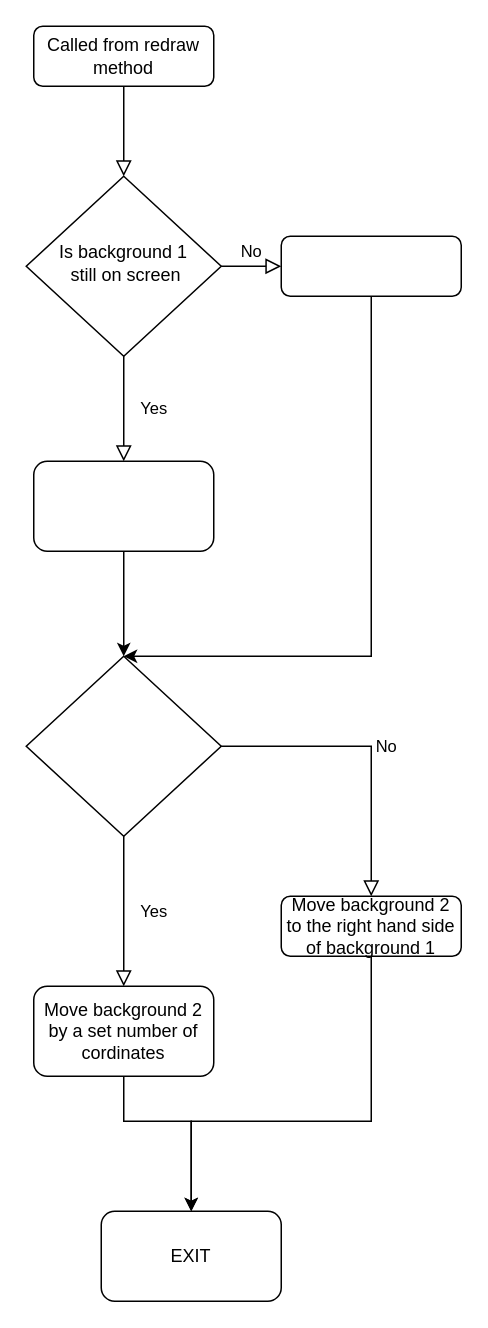
Image size: 488x1328. Some labels were removed from this diagram. The centre of each missing label's shape, as x and y in pixels:
Is background 2 still on screen: [123,745]
Move background 1 by a set number of cordinates: [123,505]
Move background 1 to the right hand side of background 2: [370,265]
